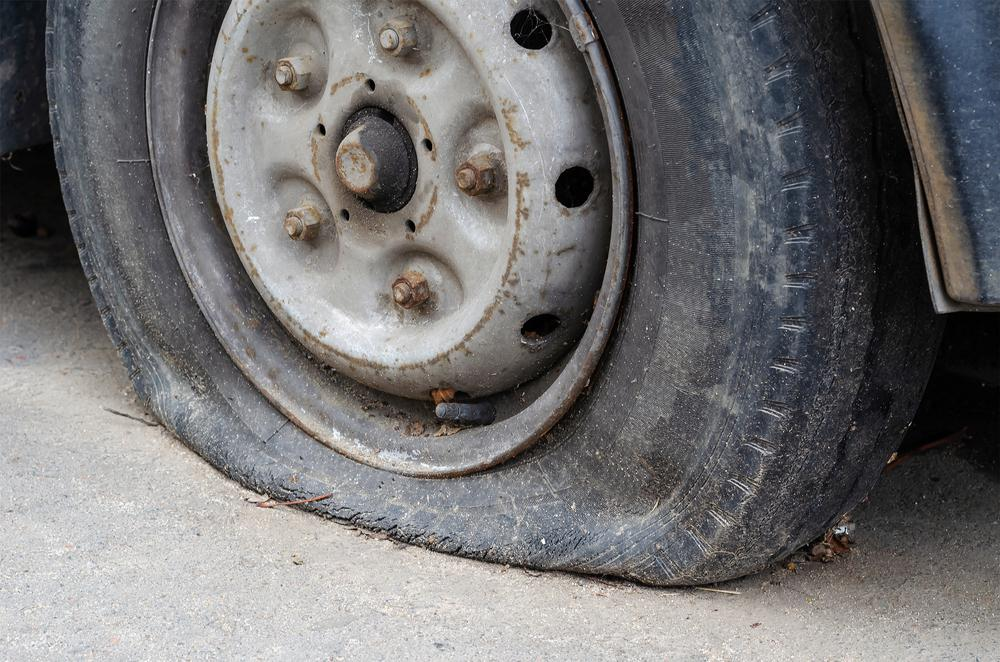tire flat: (48, 0, 943, 589)
